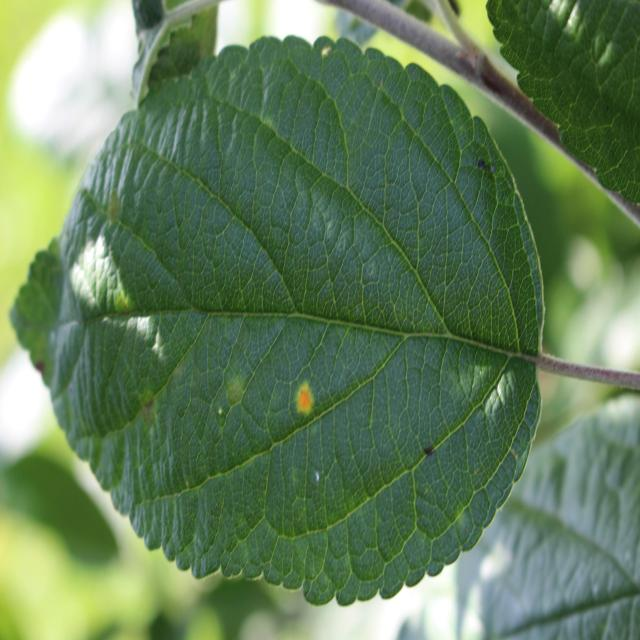rust: (7, 34, 546, 607)
